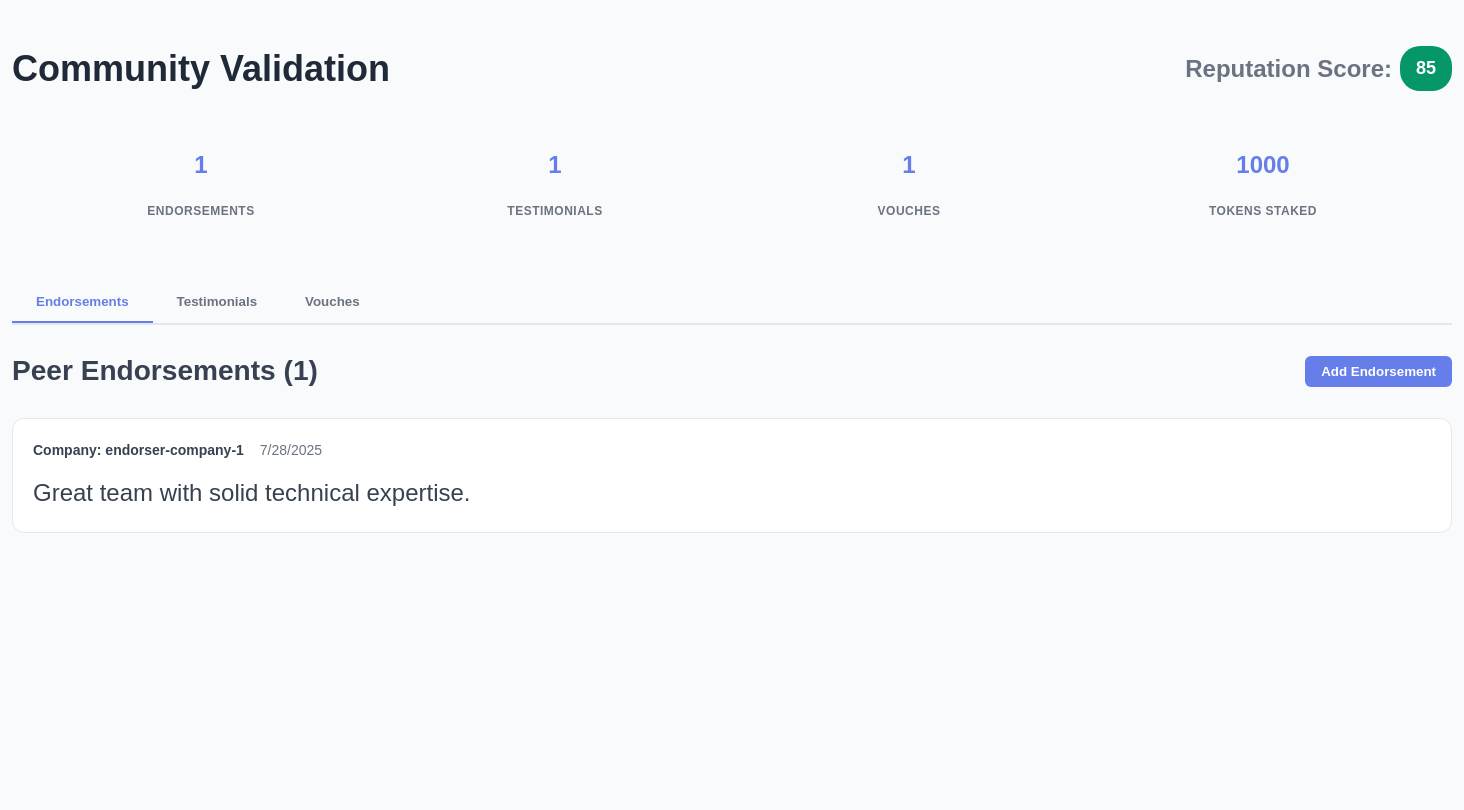
Test: CommunityValidation › Endorsements Tab › should hide add form when cancel is clicked
Click the button "Add Endorsement": x=1379, y=372 [1305,356,1452,387]
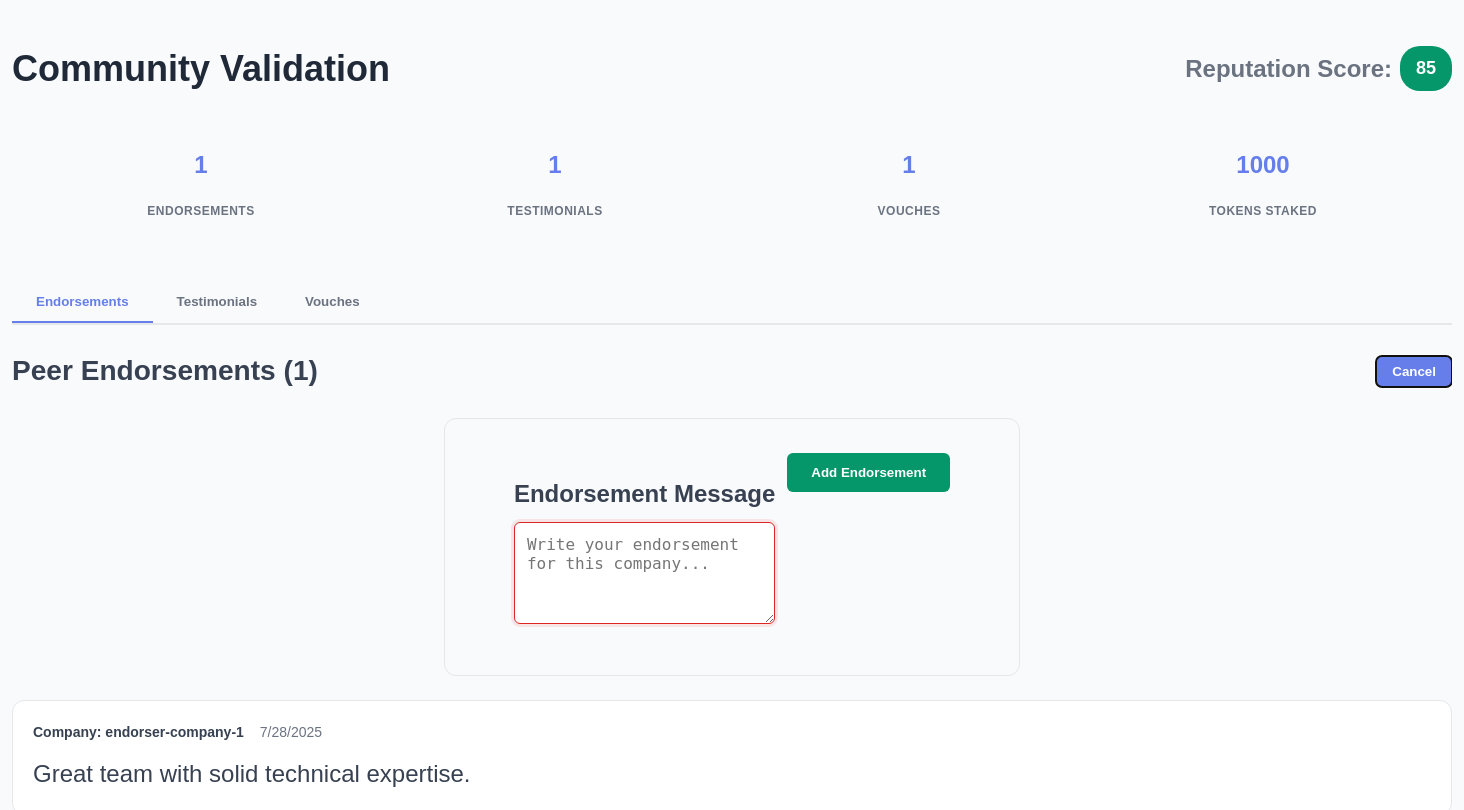
Click the button "Cancel": x=1414, y=372 [1376,356,1452,387]
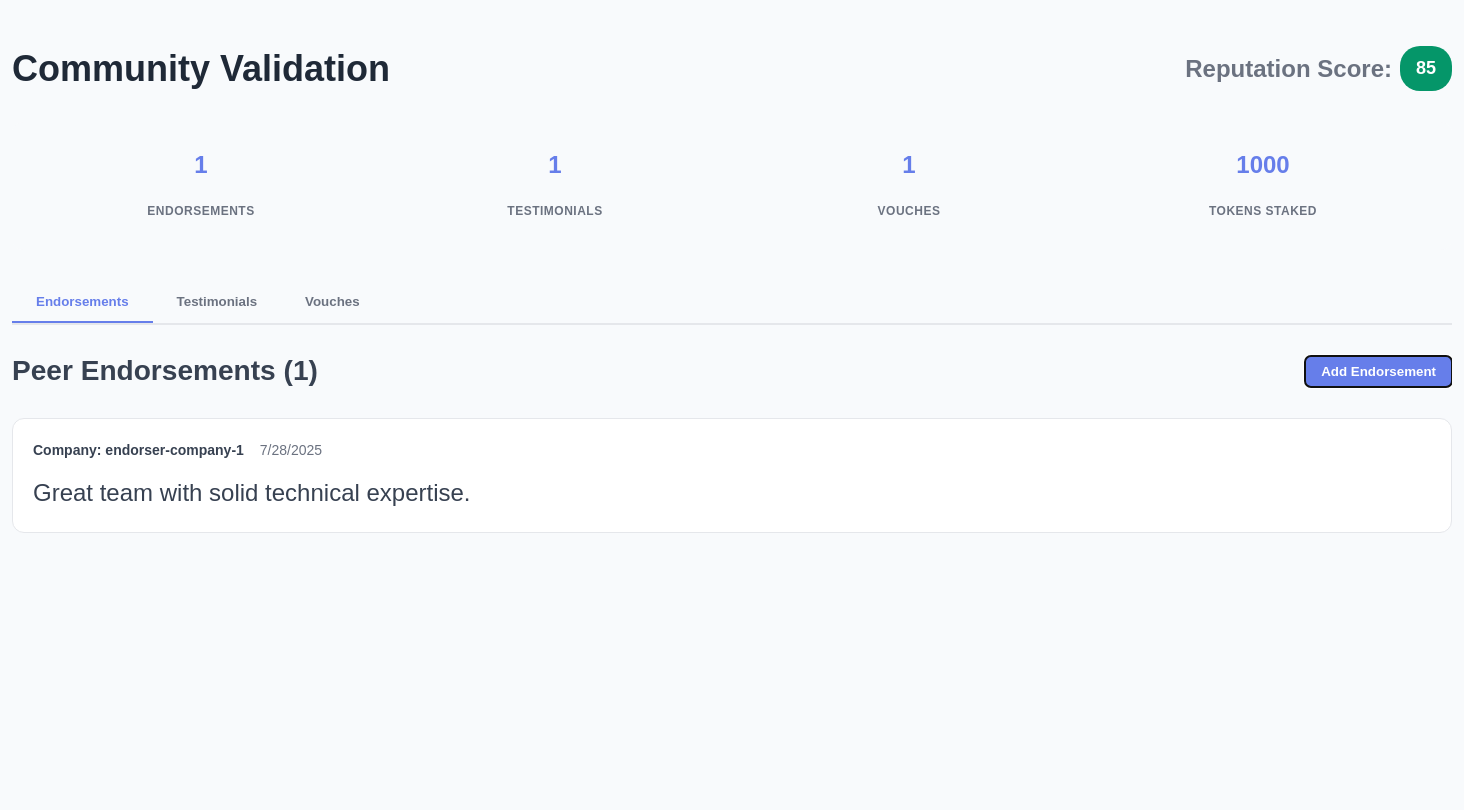
Now the label labelled "Endorsement Message" is gone
